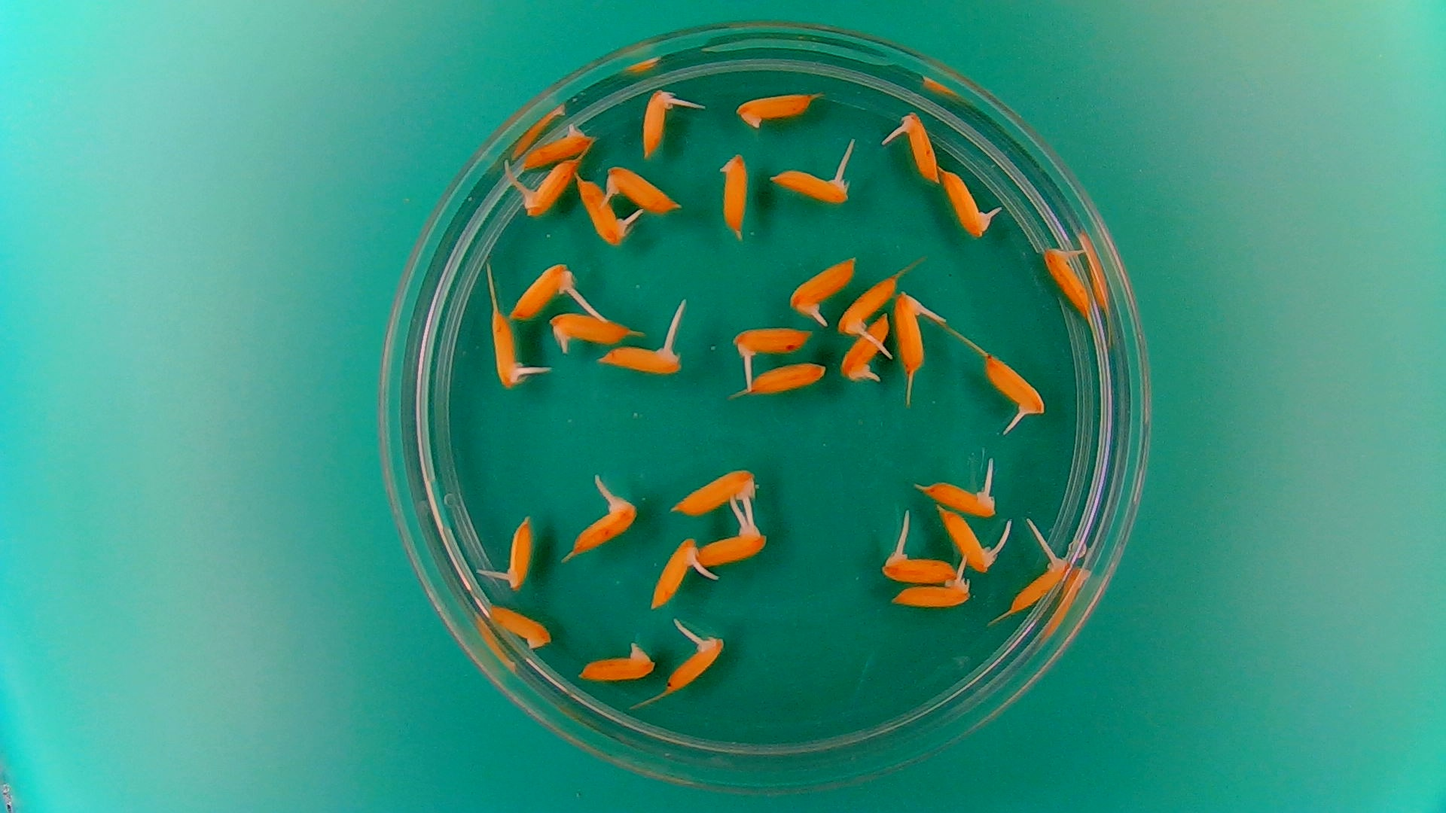no: (733, 87, 816, 130), (715, 148, 751, 241), (576, 644, 654, 684), (486, 604, 553, 650), (743, 361, 827, 394)
yes: (1008, 537, 1069, 614), (981, 352, 1047, 419), (663, 626, 727, 695), (602, 161, 683, 215), (837, 269, 900, 336), (648, 537, 703, 612), (667, 467, 758, 510), (1042, 245, 1094, 318), (566, 498, 633, 553), (508, 265, 573, 321), (895, 110, 943, 185), (522, 160, 583, 218), (941, 168, 990, 240), (789, 260, 859, 310), (578, 176, 628, 245), (549, 309, 637, 348), (514, 126, 592, 170), (489, 306, 528, 391), (940, 513, 994, 574), (841, 312, 889, 380), (731, 322, 813, 361), (690, 525, 764, 568), (601, 343, 686, 378), (773, 169, 855, 205), (499, 513, 538, 588), (892, 290, 926, 374), (894, 577, 975, 612), (880, 550, 959, 585), (639, 87, 676, 160), (926, 483, 994, 513)
